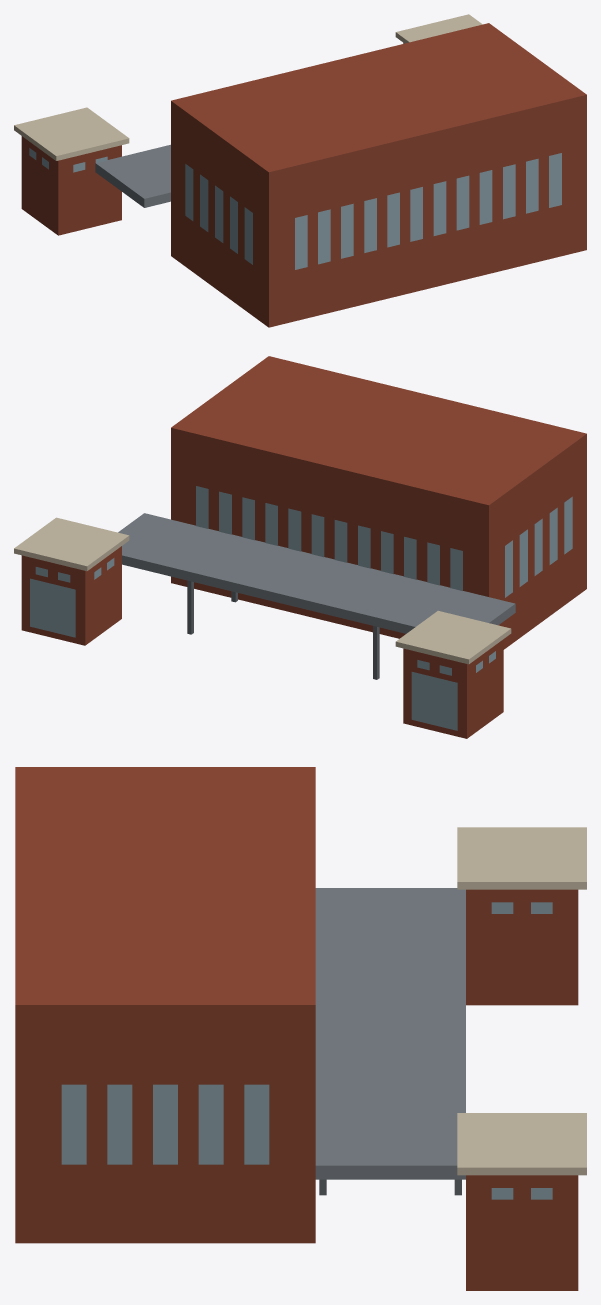
The picture shows the model from 3 angles, top to bottom: view 1: azimuth 30°, elevation 25°; view 2: azimuth 150°, elevation 25°; view 3: azimuth 270°, elevation 25°; orthographic projection. The views are drawn at different scales.
Parts seen in each view (by area): view 1: jamaica-station-lod2; view 2: jamaica-station-lod2; view 3: jamaica-station-lod2.
Part boxes in pixels (x1,y1,x2,y2): jamaica-station-lod2: (14, 14, 586, 327); jamaica-station-lod2: (14, 356, 586, 738); jamaica-station-lod2: (15, 767, 586, 1290).
Size of the model in its own units: 94.39 by 30.8 by 67.14.
